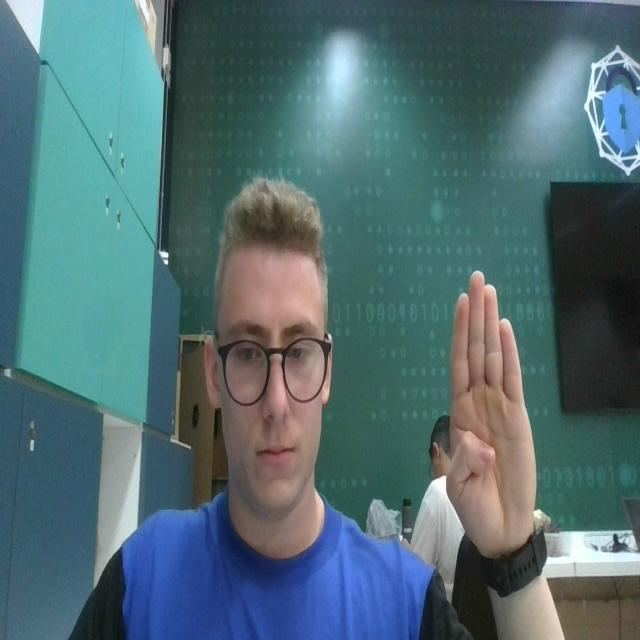B: (443, 265, 540, 546)
